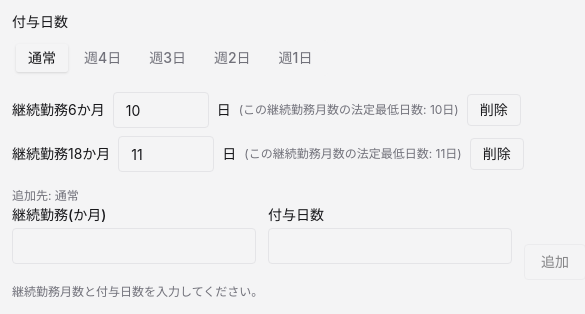
it: PaidLeaveGrantStepsEditor › shows an empty message for a category with no rows
What coordinates should you click on to do the following:
click the tab "週1日"
I would click on:
 (296, 58)
Its box is [267,44,324,72].
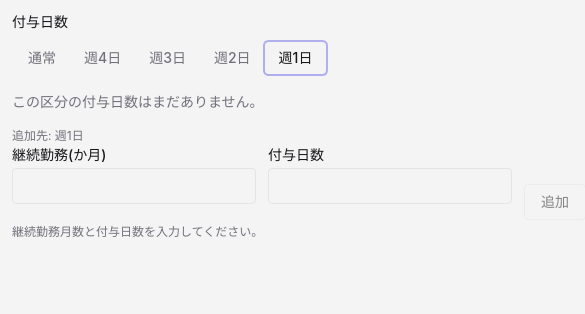
expect the text "この区分の付与日数はまだありません。" is shown: met, box [12,93,264,110]
